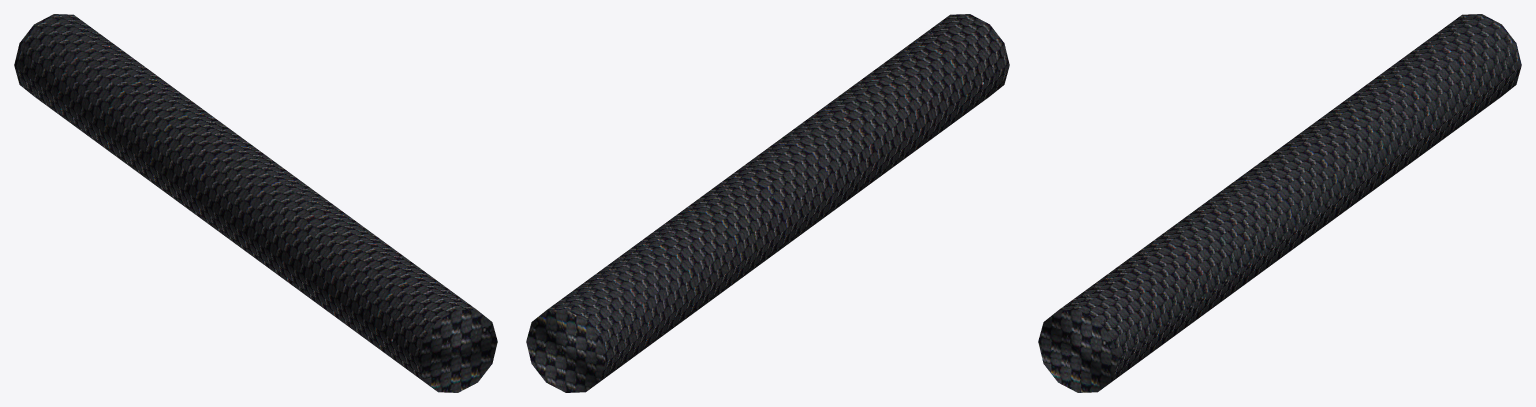
File: grapling_hook_cord.fbx
3 renders of one model, left to right at view 1: azimuth 30°, elevation 25°; view 2: azimuth 150°, elevation 25°; view 3: azimuth 330°, elevation 25°, orthographic.
Parts seen in each view (by area): view 1: Mesh; view 2: Mesh; view 3: Mesh.
Part boxes in pixels (x1,y1,x2,y2): Mesh: (14,14,497,392); Mesh: (526,14,1009,392); Mesh: (1038,14,1521,392).
Bounding box in the file's own units: 1.88 × 1.88 × 16.57.
